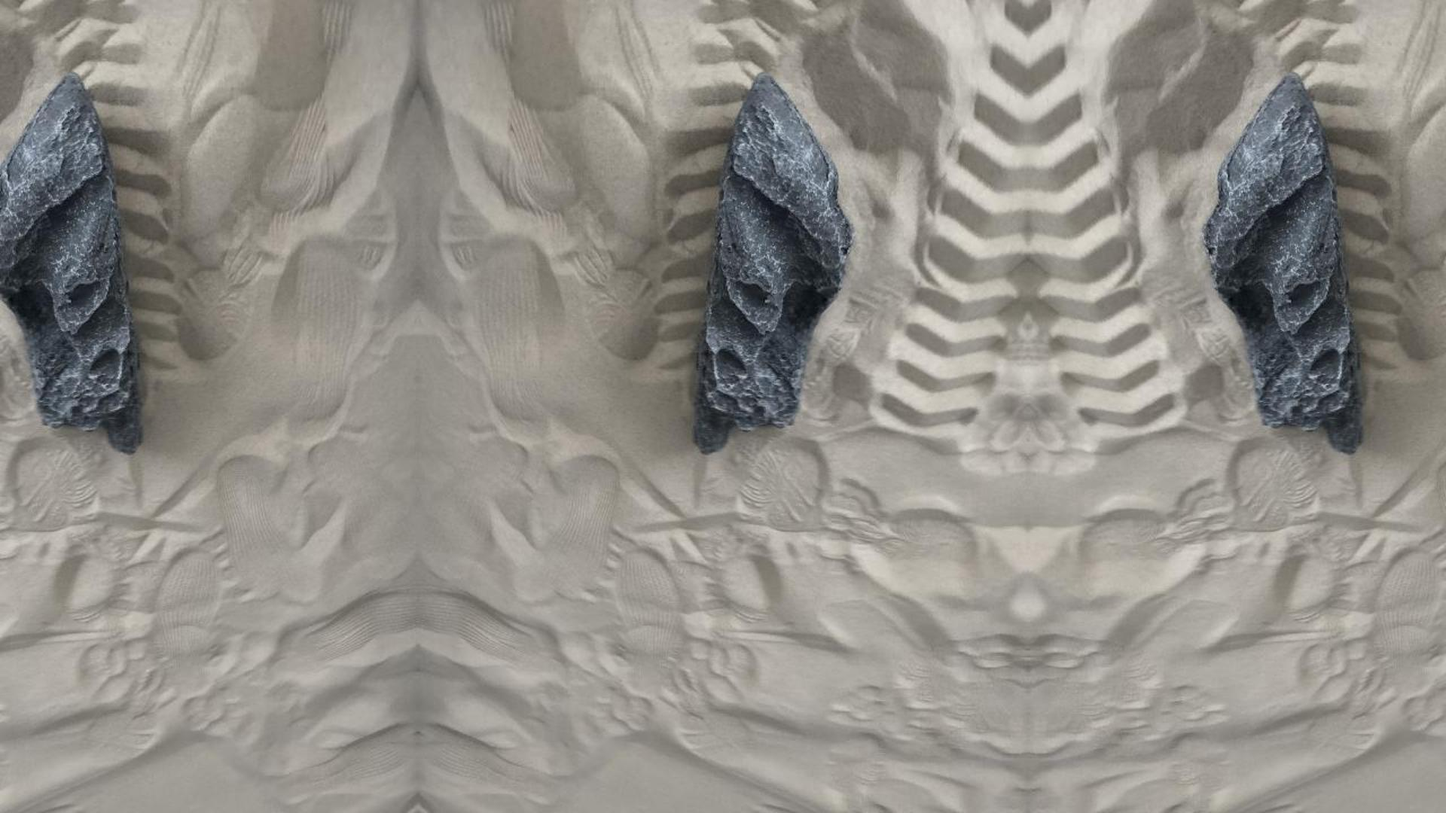rock: (694, 73, 853, 453), (1204, 73, 1361, 453), (0, 73, 141, 453)
